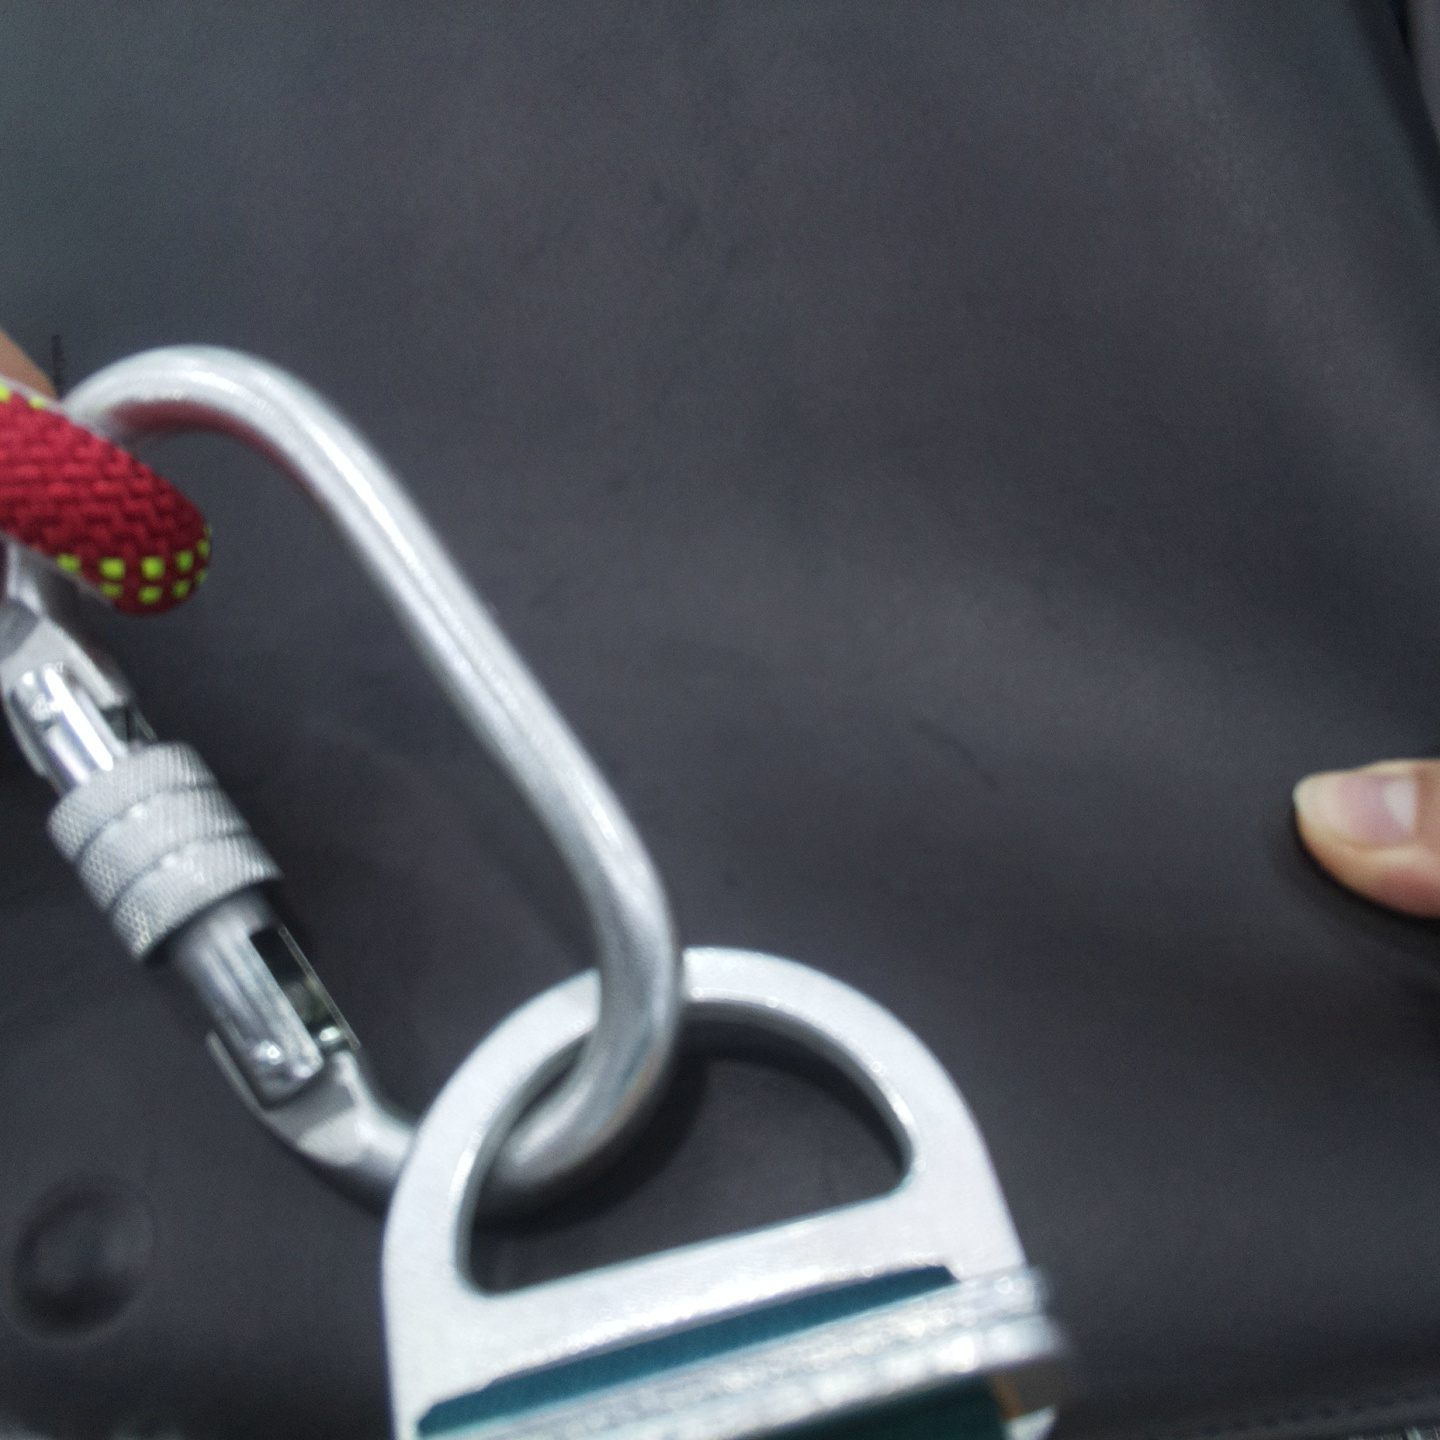SUCCESS: (51, 753, 1058, 1373)
